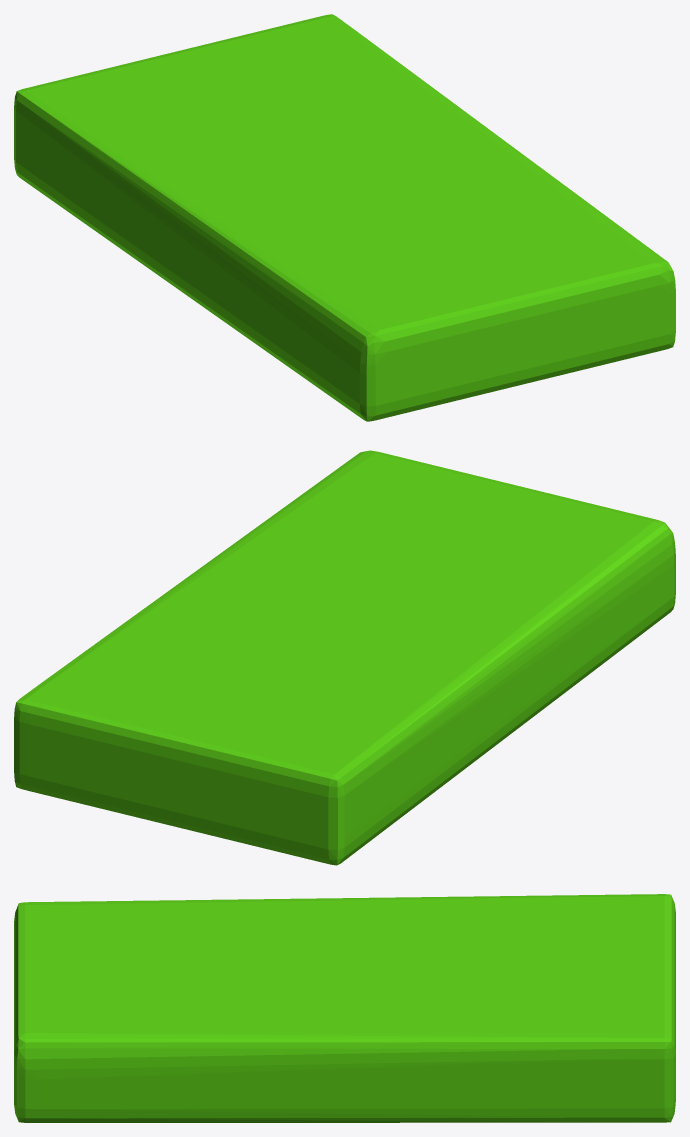
File: left_hip_pitch_link_part_17.obj
The picture shows the model from 3 angles, top to bottom: view 1: azimuth 30°, elevation 25°; view 2: azimuth 150°, elevation 25°; view 3: azimuth 270°, elevation 25°; orthographic projection. The views are drawn at different scales.
Bounding box in the file's own units: 0.07 × 0.0179 × 0.129.
